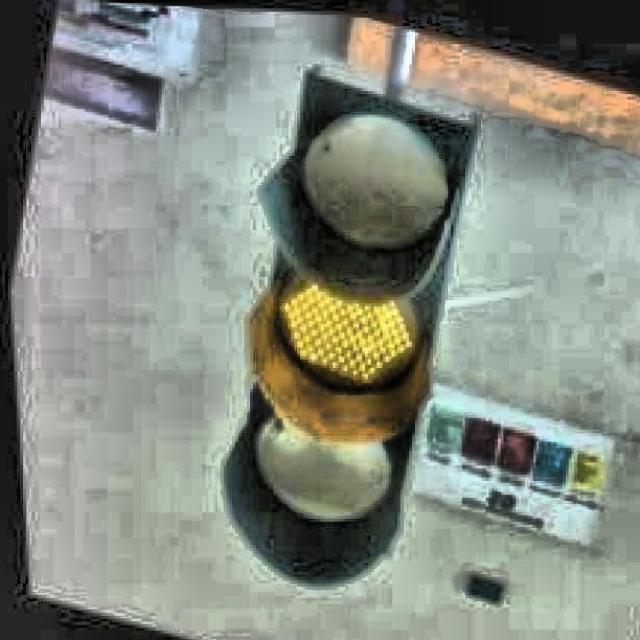yellow: (252, 69, 445, 590)
